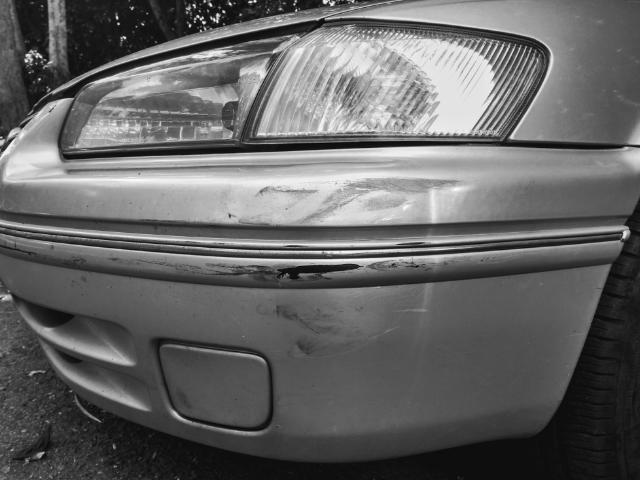Bumper: (10, 159, 587, 453)
